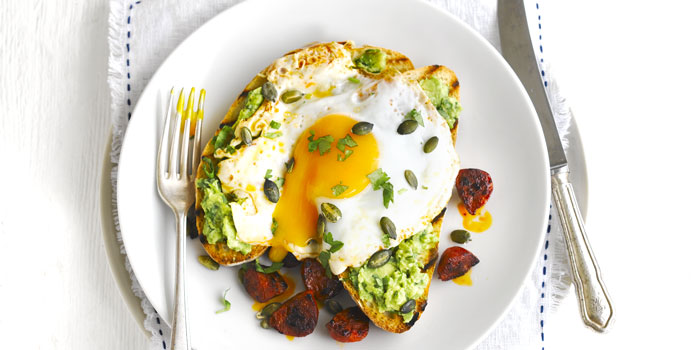fried egg: (235, 100, 434, 228)
slice of bread: (349, 258, 453, 345), (363, 45, 468, 98)
